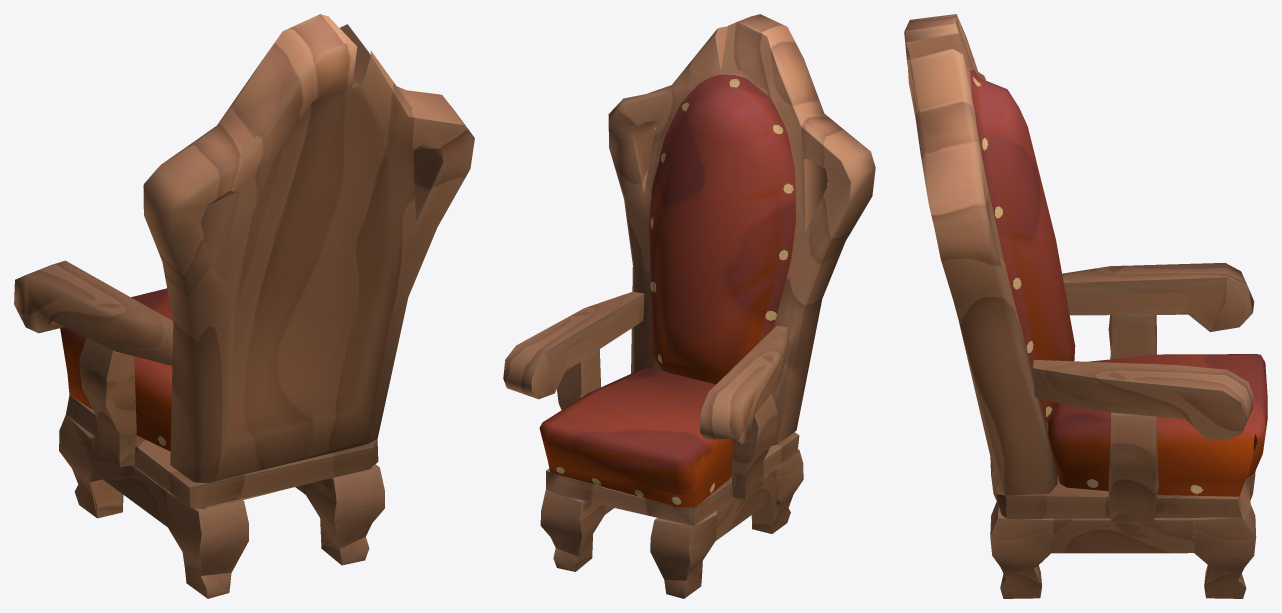
File: FUR0110006.fbx
3 views of the same model, side by side, from view 1: azimuth 30°, elevation 25°; view 2: azimuth 150°, elevation 25°; view 3: azimuth 270°, elevation 25° (orthographic). The views are drawn at different scales.
Parts seen in each view (by area): view 1: smFUR0110006; view 2: smFUR0110006; view 3: smFUR0110006.
Boxes of the visible parts, <box> form: smFUR0110006: <box>14,14,474,598</box>; smFUR0110006: <box>503,14,875,598</box>; smFUR0110006: <box>904,14,1267,598</box>.
Size of the model in its own units: 115 by 207 by 126.
Materials: 1 (1 with a texture image).
